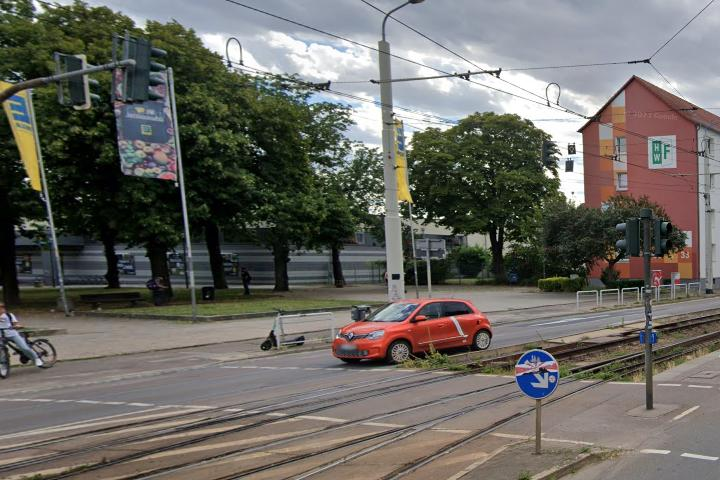traffic_sign: (513, 348, 561, 399)
vehicle: (329, 294, 494, 374)
